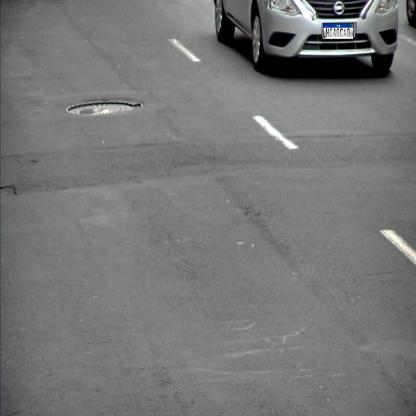PlacaM: (323, 23, 354, 39)
